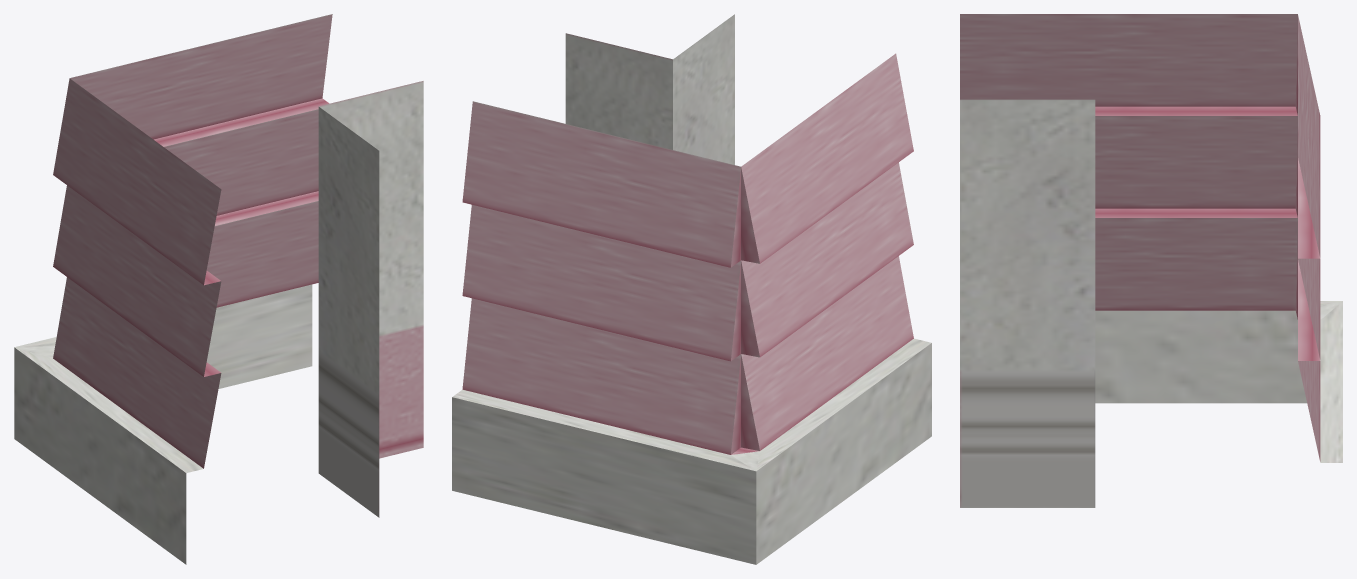
File: extWallBase_L.obj
The picture shows the model from 3 angles, left to right: view 1: azimuth 30°, elevation 25°; view 2: azimuth 150°, elevation 25°; view 3: azimuth 270°, elevation 25°; orthographic projection. The views are drawn at different scales.
Size of the model in its own units: 1.7 by 2 by 1.7.
